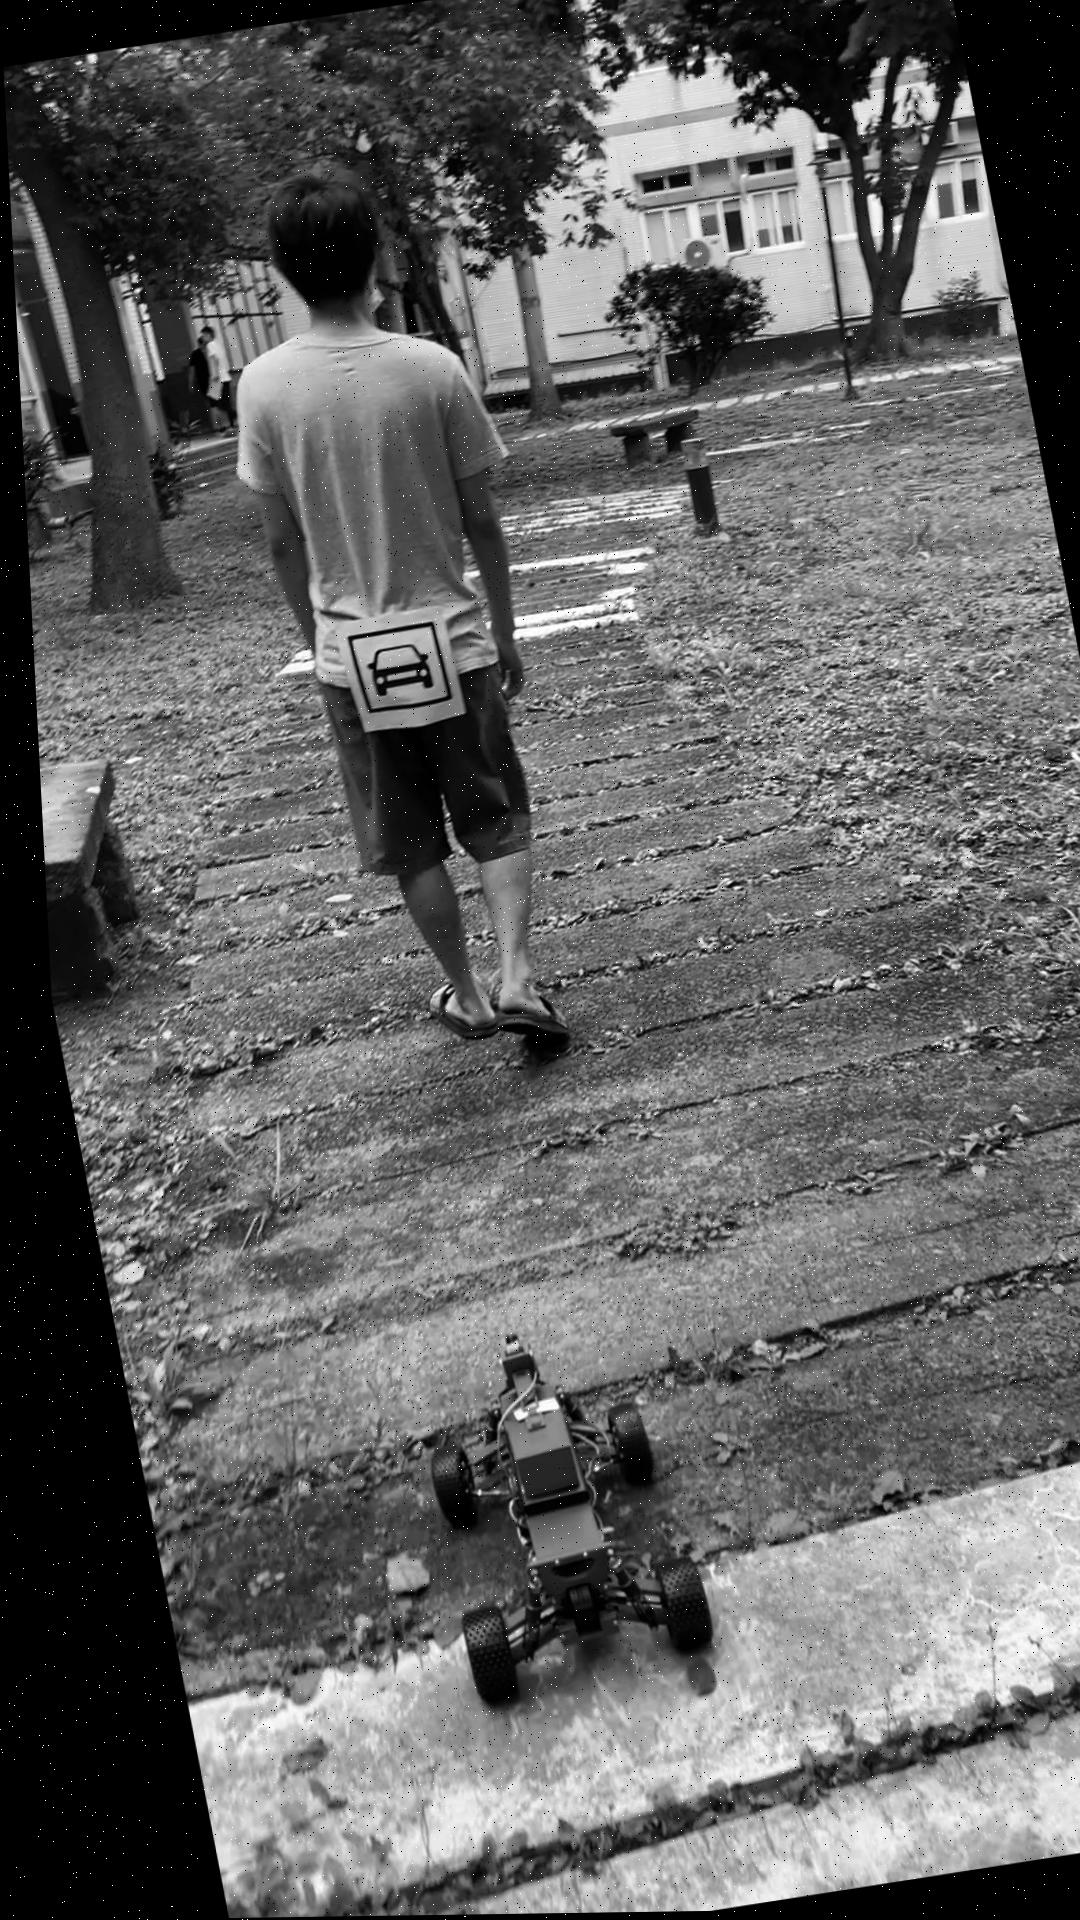car_img: (338, 620, 447, 717)
